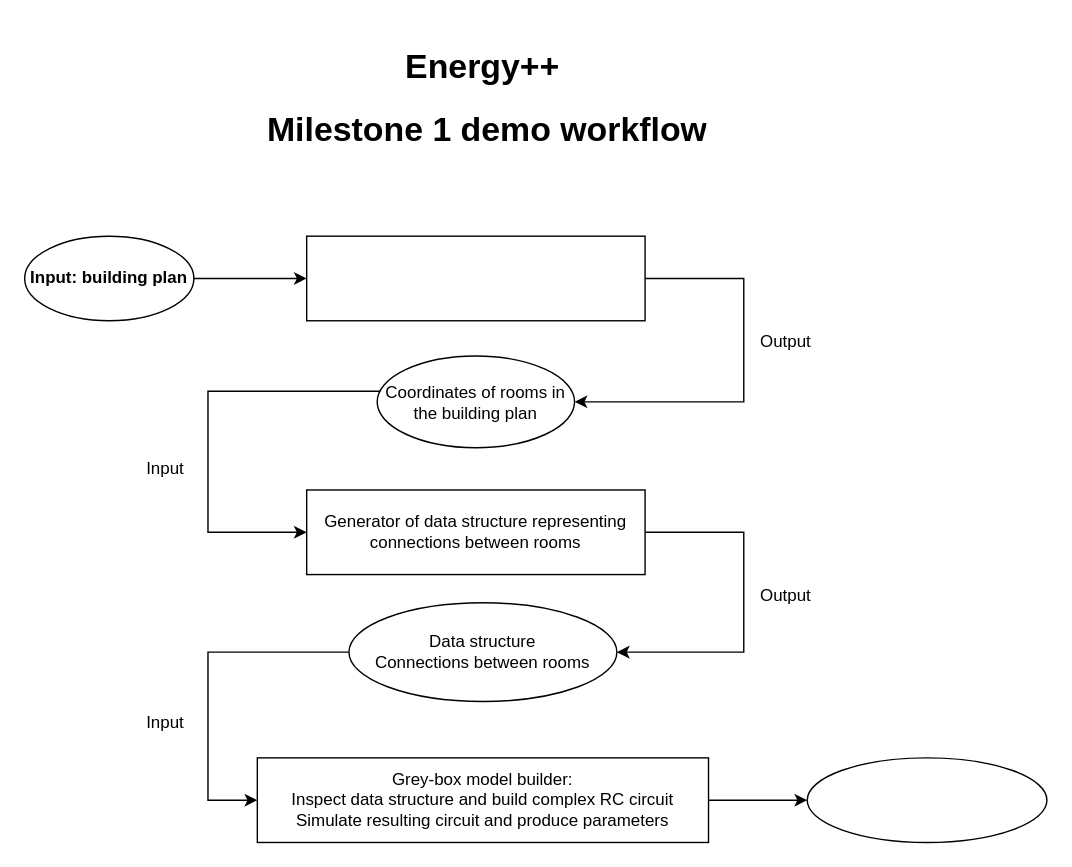
Image size: 1072x867. Some labels were removed from this diagram. The centre of each missing label's shape, as x and y in pixels:
Output: parameters of PDE: point 926,799
Recognition of rooms, walls of building plan through ML algorithm: point 475,278
